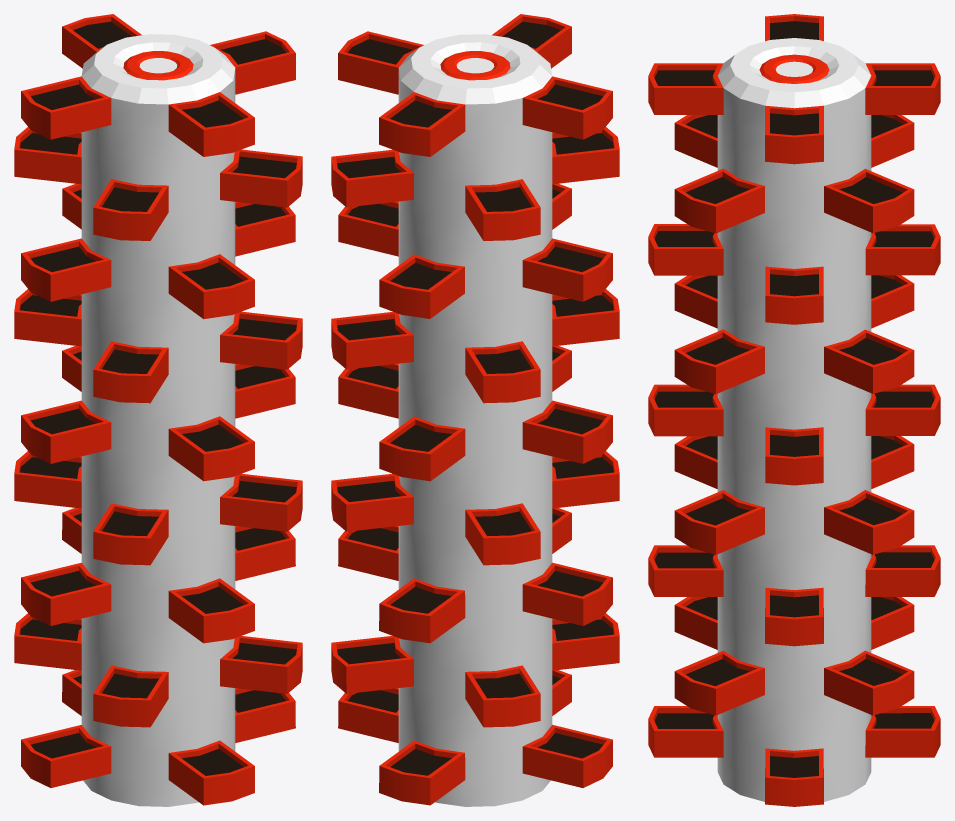
File: farm_1_partie_1_01.fbx
3 views of the same model, side by side, from view 1: azimuth 30°, elevation 25°; view 2: azimuth 150°, elevation 25°; view 3: azimuth 270°, elevation 25° (orthographic).
Visible parts, largest first — view 1: Cylinder028; view 2: Cylinder028; view 3: Cylinder028.
Part boxes in pixels (x1=…): Cylinder028: x1=14, y1=14, x2=302, y2=806; Cylinder028: x1=331, y1=14, x2=619, y2=806; Cylinder028: x1=648, y1=14, x2=940, y2=806.
Bounding box in the file's own units: 380 × 1015 × 380.
